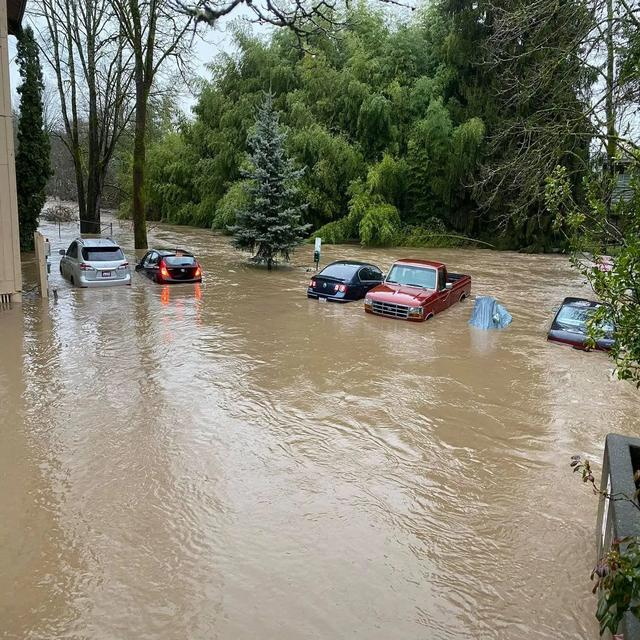Car-RiskLevel3: (360, 248, 480, 333), (52, 214, 137, 298), (297, 247, 372, 315), (141, 235, 219, 292)
